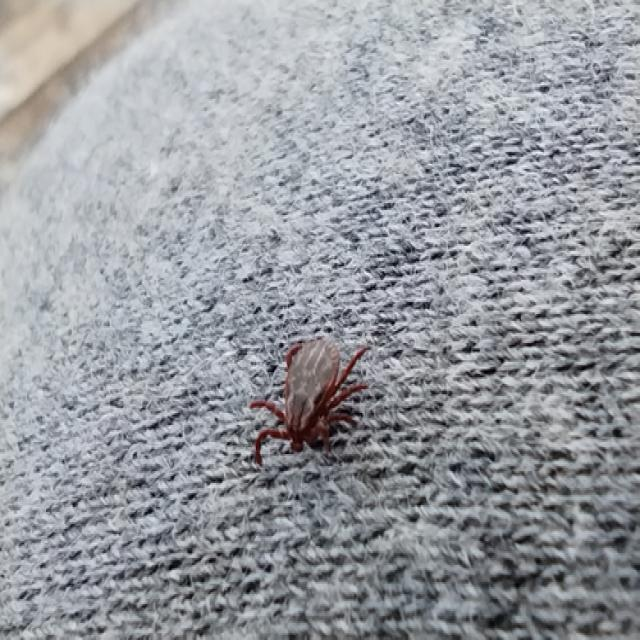Dermacentor Reticulatus-M: (248, 340, 371, 466)
